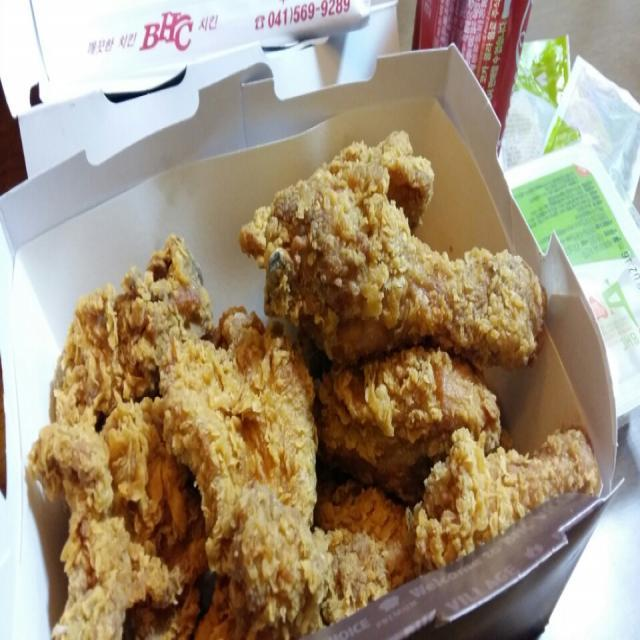Frango: (21, 149, 568, 637)
